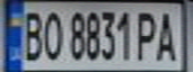1: (115, 7, 136, 61)
3: (100, 7, 118, 61)
8: (63, 7, 87, 61), (81, 7, 103, 61)
A: (154, 7, 181, 63)
B: (18, 7, 45, 62)
O: (39, 7, 66, 62)
P: (133, 7, 160, 61)
